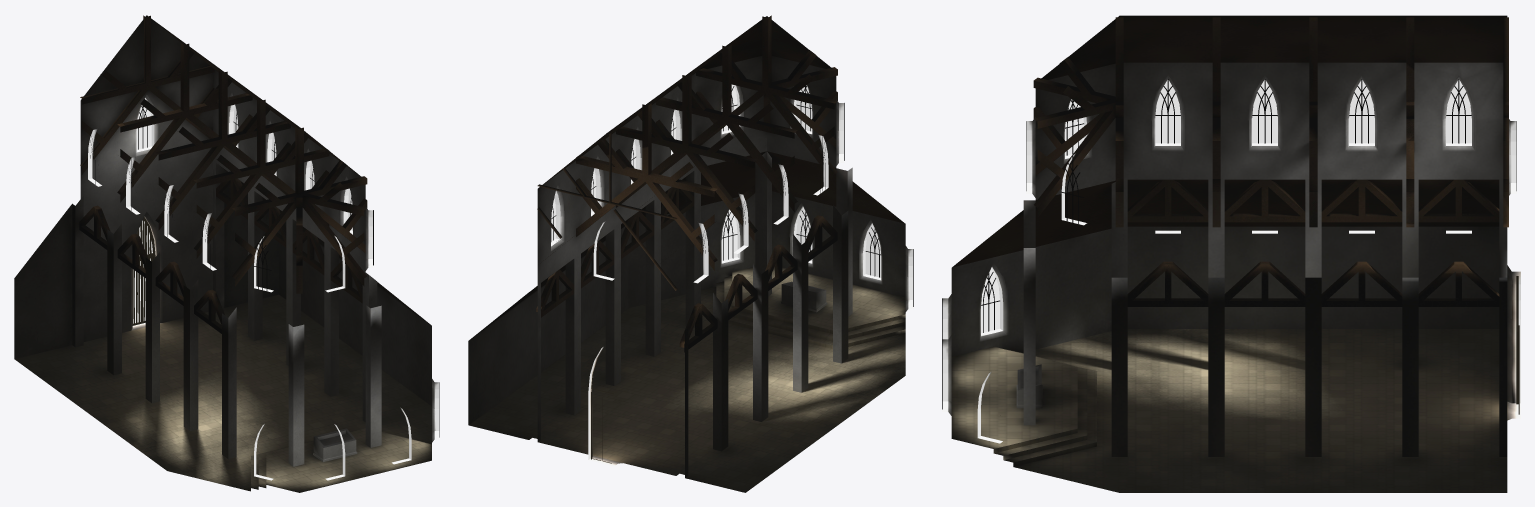
The model's file is cathedral.glb.
The picture shows the model from 3 angles, left to right: view 1: azimuth 30°, elevation 25°; view 2: azimuth 150°, elevation 25°; view 3: azimuth 270°, elevation 25°; orthographic projection. The views are drawn at different scales.
Visible parts, largest first — view 1: BUILDING, vigueria, ventanas, door_door_0; view 2: BUILDING, vigueria, ventanas; view 3: BUILDING, vigueria, ventanas.
Part boxes in pixels (box(x1,y1,x2,y2)): BUILDING: box(14, 15, 439, 492); vigueria: box(79, 15, 367, 333); ventanas: box(133, 105, 352, 323); door_door_0: box(132, 217, 155, 325); BUILDING: box(468, 16, 913, 492); vigueria: box(536, 15, 837, 352); ventanas: box(551, 84, 881, 277); BUILDING: box(942, 15, 1520, 492); vigueria: box(1033, 17, 1508, 306); ventanas: box(981, 80, 1471, 333).
Bounding box in the file's own units: 12 × 13.5 × 17.92.
5 materials, 2 textured.
